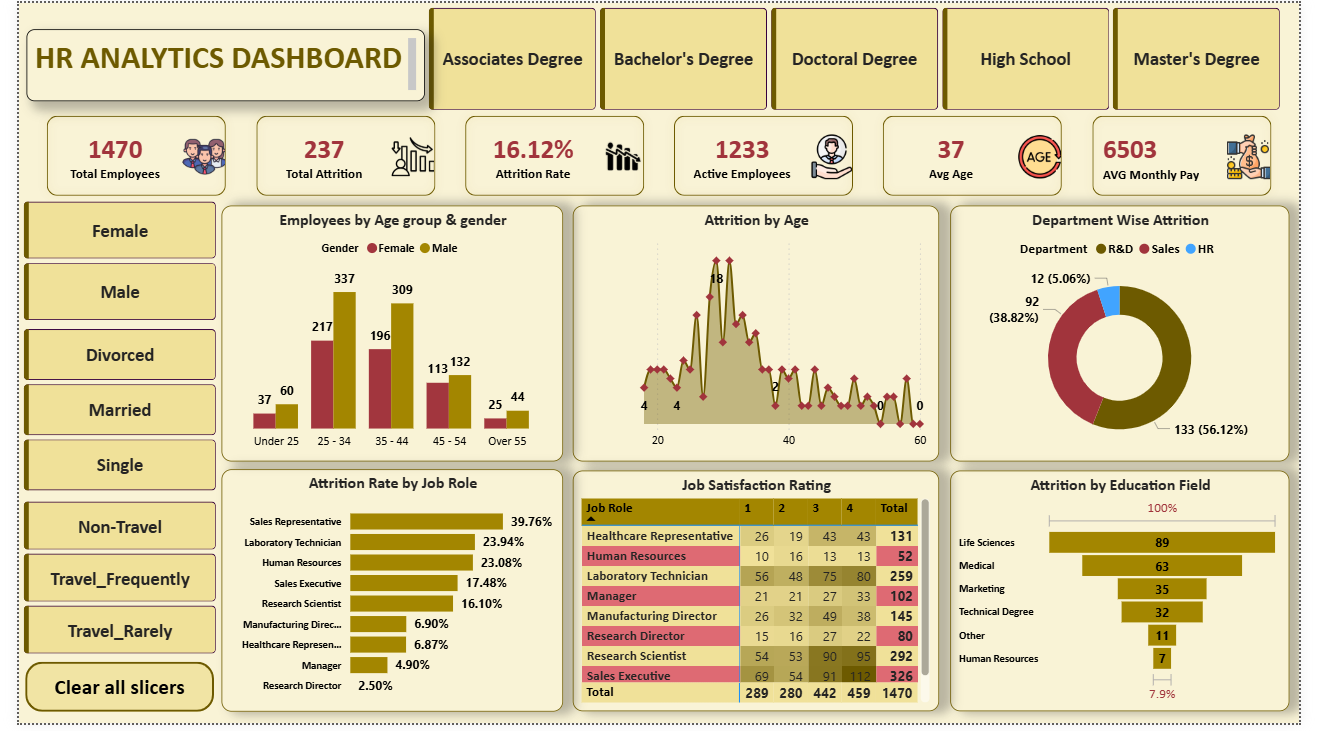

The dashboard page shown, as its layout file describes it:
{"tool":"powerbi","page":{"name":"Page 1","canvas":[1280,720],"ordinal":0},"visuals":[{"type":"cardVisual","fields":{"Data":["HR data.Total Employees","HR data.Total Attrition","HR data.Attrition Rate","HR data.Active Employees","Avg(HR data.Age)","Avg(HR data.Monthly Income)"]},"box":[0,85,1280,136.2],"z":0},{"type":"clusteredColumnChart","title":" Employees by Age group & gender","fields":{"Category":["HR data.Age Group"],"Y":["HR data.Total Employees"],"Series":["HR data.Gender"]},"box":[202.5,202.5,341.2,256.2],"z":1000},{"type":"areaChart","title":" Attrition by Age","fields":{"Category":["HR data.Age"],"Y":["HR data.Total Attrition"]},"box":[553.8,202.4,366.3,255.8],"z":2000},{"type":"donutChart","title":"Department Wise Attrition","fields":{"Category":["HR data.Department"],"Y":["HR data.Total Attrition"]},"box":[931.3,202.4,339,255.8],"z":3000},{"type":"clusteredBarChart","fields":{"Category":["HR data.Job Role"],"Y":["HR data.Attrition Rate"]},"box":[202.4,465.7,341.5,242.1],"z":4000},{"type":"pivotTable","title":"Job Satisfaction Rating","fields":{"Rows":["HR data.Job Role"],"Columns":["HR data.Job Satisfaction"],"Values":["HR data.Total Employees"]},"box":[553.8,466.9,366.3,240.9],"z":5000},{"type":"funnel","title":"Attrition by Education Field","fields":{"Category":["HR data.Education Field"],"Y":["HR data.Total Attrition"]},"box":[931.3,466.9,339,240.9],"z":6000},{"type":"advancedSlicerVisual","fields":{"Values":["HR data.Gender"]},"box":[0,193.2,203,128.4],"z":7000},{"type":"advancedSlicerVisual","fields":{"Values":["HR data.Marital Status"]},"box":[0,321.6,203,172.4],"z":8000},{"type":"advancedSlicerVisual","fields":{"Values":["HR data.Business Travel"]},"box":[0,493.8,202.5,162.5],"z":9000},{"type":"advancedSlicerVisual","fields":{"Values":["HR data.Education"]},"box":[405,0,865,112.5],"z":10000},{"type":"actionButton","box":[6.2,658.8,188.8,50],"z":11000},{"type":"textbox","box":[8,26,398.6,72.1],"z":12000}]}

Visuals, with their boxes in screenshot pixels (x1, y1, x2, y2), scaled from the page's 1280x720 canvas onto the 1320x731 screenshot:
cardVisual - HR data.Total Employees x HR data.Total Attrition: (x1=0, y1=86, x2=1319, y2=225)
" Employees by Age group & gender" clusteredColumnChart: (x1=209, y1=206, x2=561, y2=466)
" Attrition by Age" areaChart: (x1=571, y1=205, x2=949, y2=465)
"Department Wise Attrition" donutChart: (x1=960, y1=205, x2=1310, y2=465)
clusteredBarChart - HR data.Job Role x HR data.Attrition Rate: (x1=209, y1=473, x2=561, y2=719)
"Job Satisfaction Rating" pivotTable: (x1=571, y1=474, x2=949, y2=719)
"Attrition by Education Field" funnel: (x1=960, y1=474, x2=1310, y2=719)
advancedSlicerVisual - HR data.Gender: (x1=0, y1=196, x2=209, y2=327)
advancedSlicerVisual - HR data.Marital Status: (x1=0, y1=327, x2=209, y2=502)
advancedSlicerVisual - HR data.Business Travel: (x1=0, y1=501, x2=209, y2=666)
advancedSlicerVisual - HR data.Education: (x1=418, y1=0, x2=1310, y2=114)
actionButton: (x1=6, y1=669, x2=201, y2=720)
textbox: (x1=8, y1=26, x2=419, y2=100)
